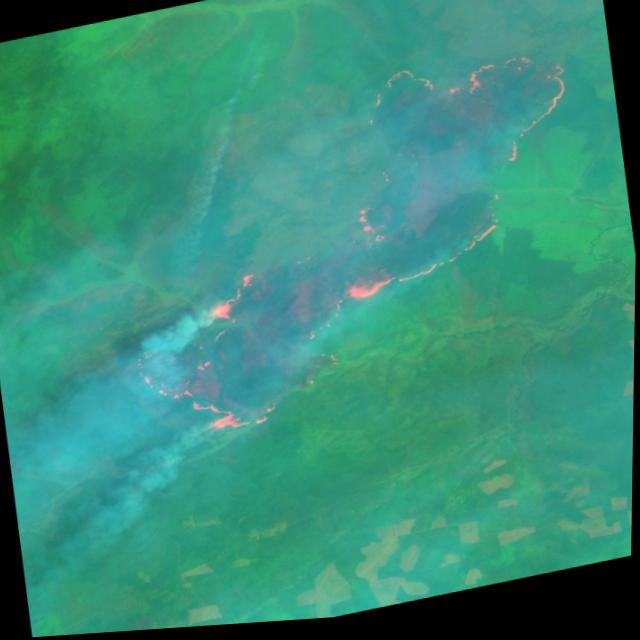fire: (99, 36, 613, 455)
